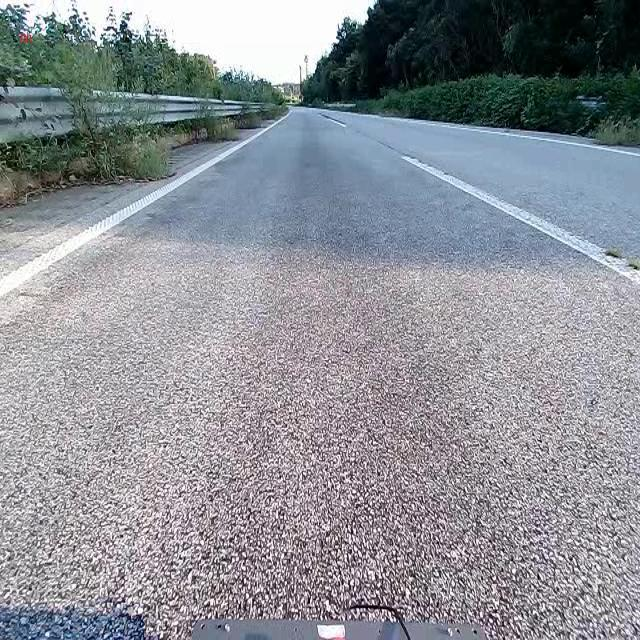Lane: (315, 107, 640, 292), (0, 98, 300, 295), (0, 120, 279, 297), (401, 154, 639, 283), (402, 119, 639, 157), (321, 113, 345, 126)
